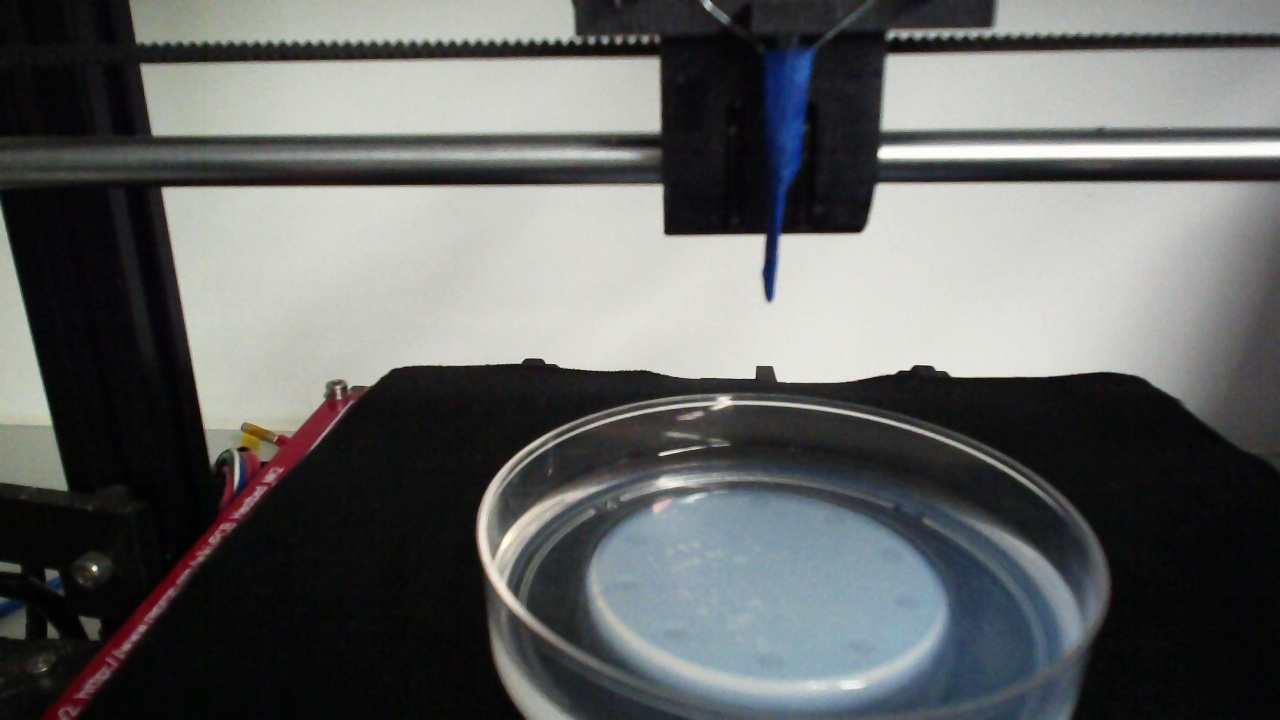groove: (743, 490, 778, 515), (872, 542, 906, 567), (752, 649, 787, 673), (606, 575, 641, 599), (658, 623, 694, 646), (891, 591, 924, 616), (818, 506, 849, 531), (847, 637, 879, 660), (621, 527, 649, 548)
needle: (763, 52, 813, 301)
